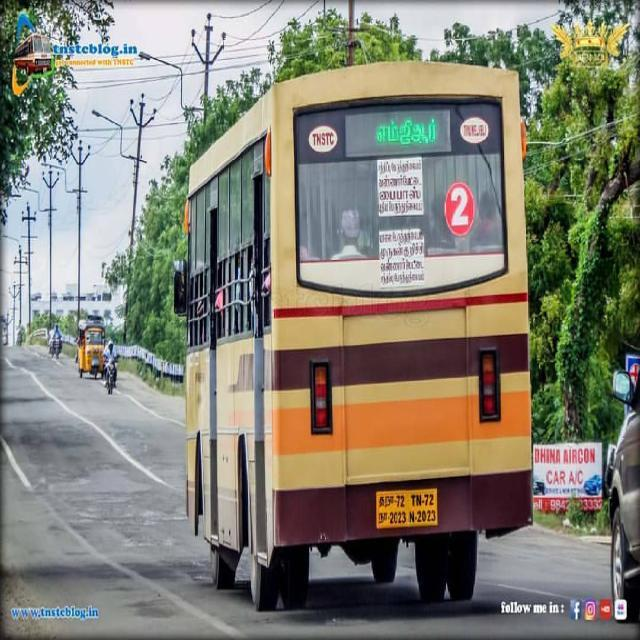Bus: (168, 58, 543, 593)
